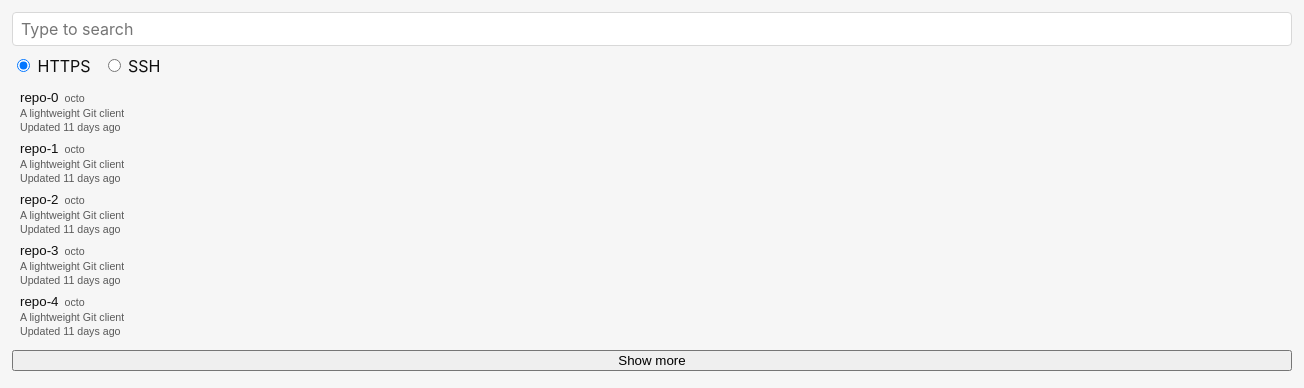
RepoBrowser paging › appends page 2 to the list
Click the button "Show more" at (652, 360), box [12,350,1292,371]
(page scrolled)
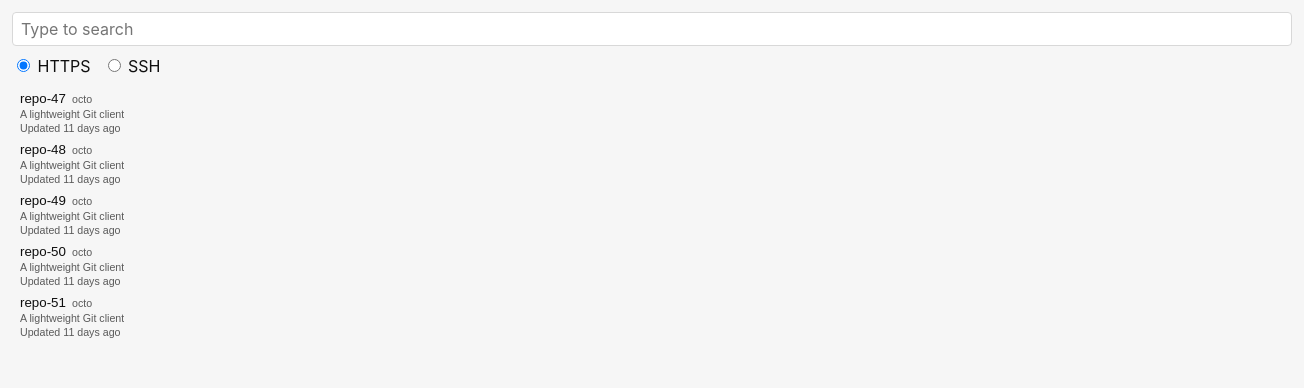
Check: the button with aria-label "Use octo/repo-51" is shown, box [12,291,1292,342]
